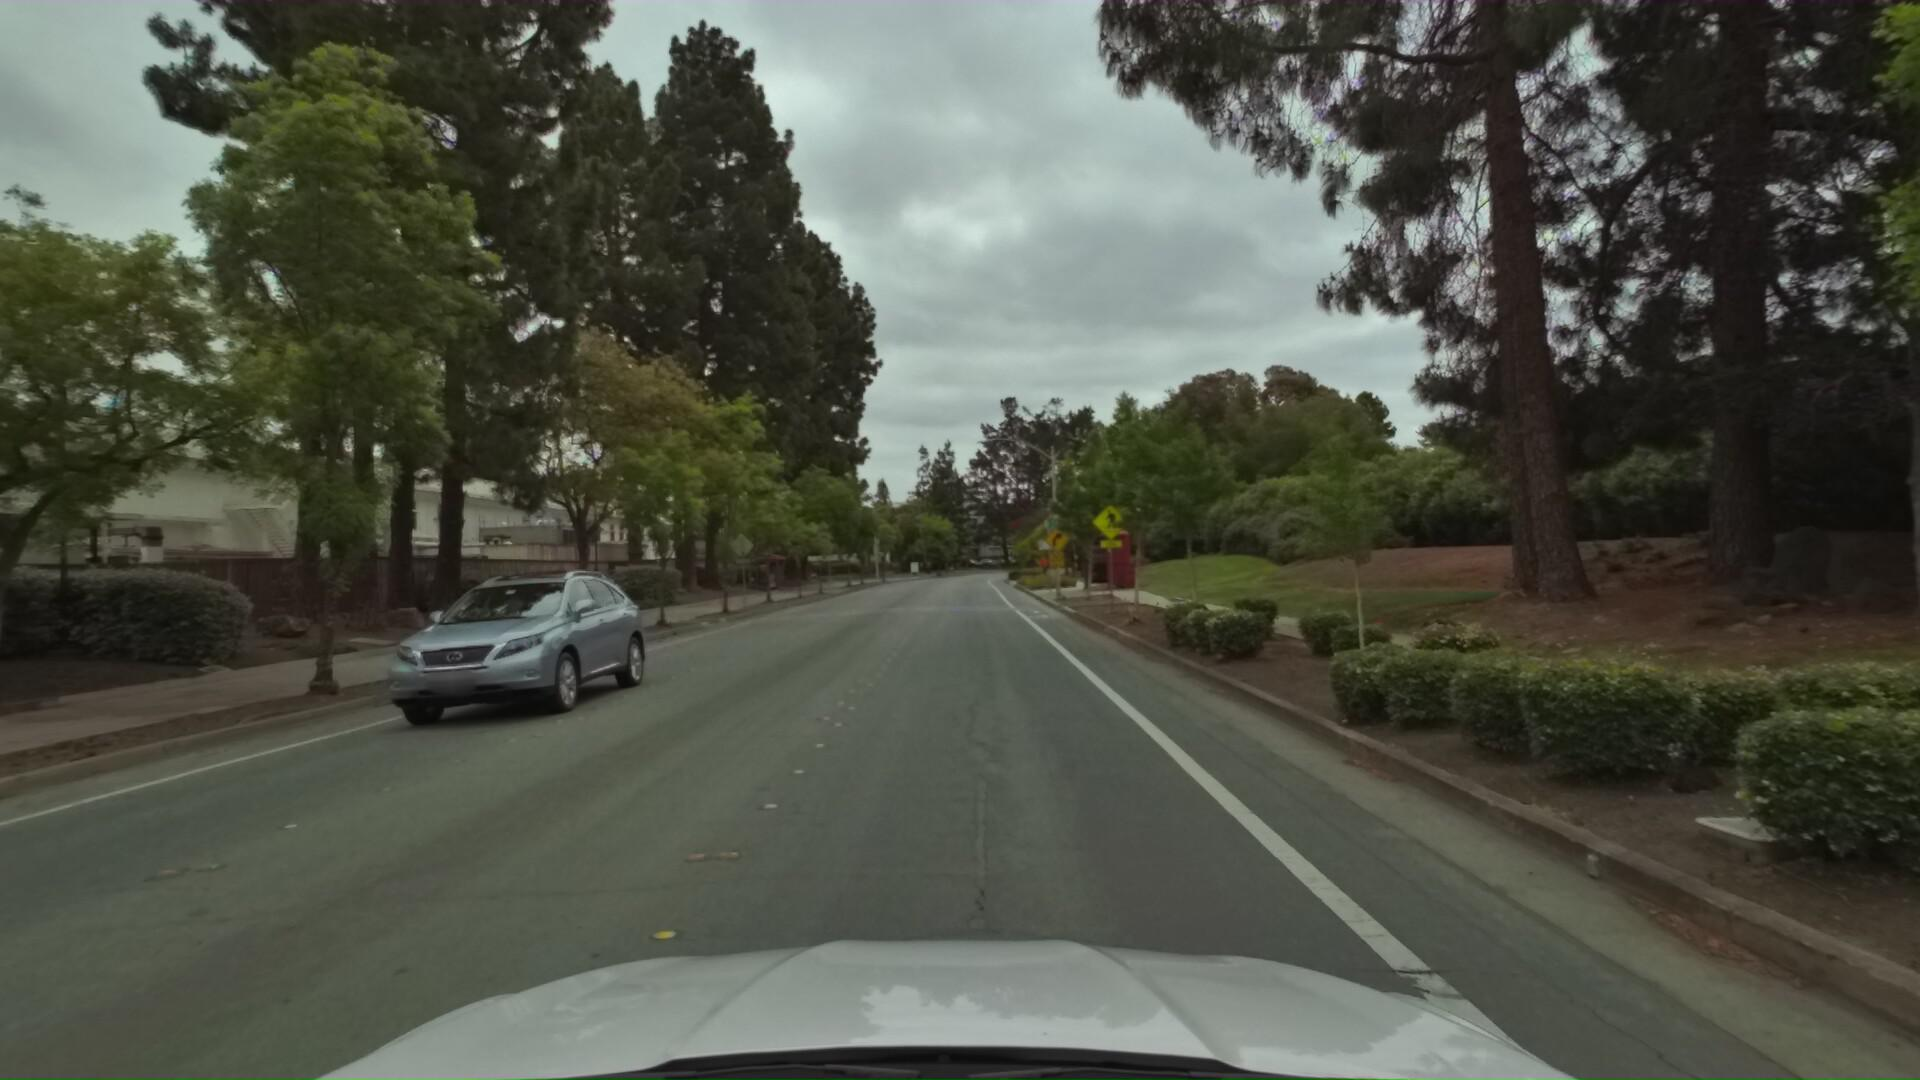car: (290, 560, 646, 756)
truck: (644, 535, 715, 583)
